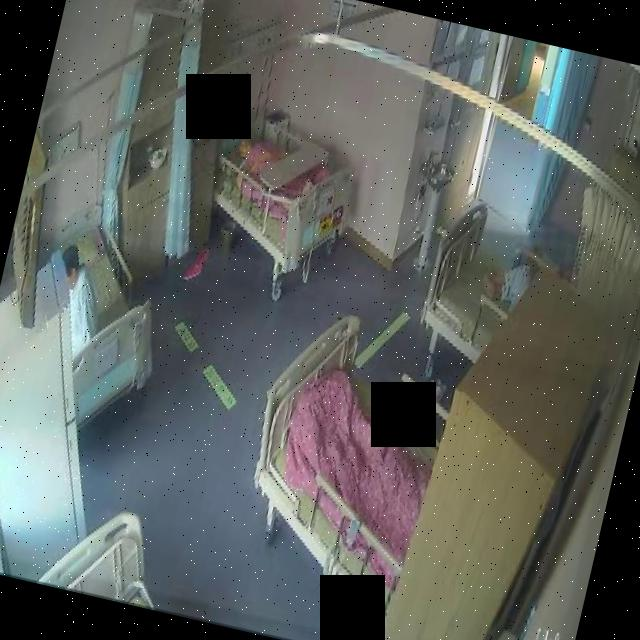bed: (233, 308, 463, 606), (21, 200, 183, 442), (194, 104, 364, 280), (412, 193, 540, 366)
patient: (40, 242, 114, 360)
sit: (38, 240, 114, 360)
